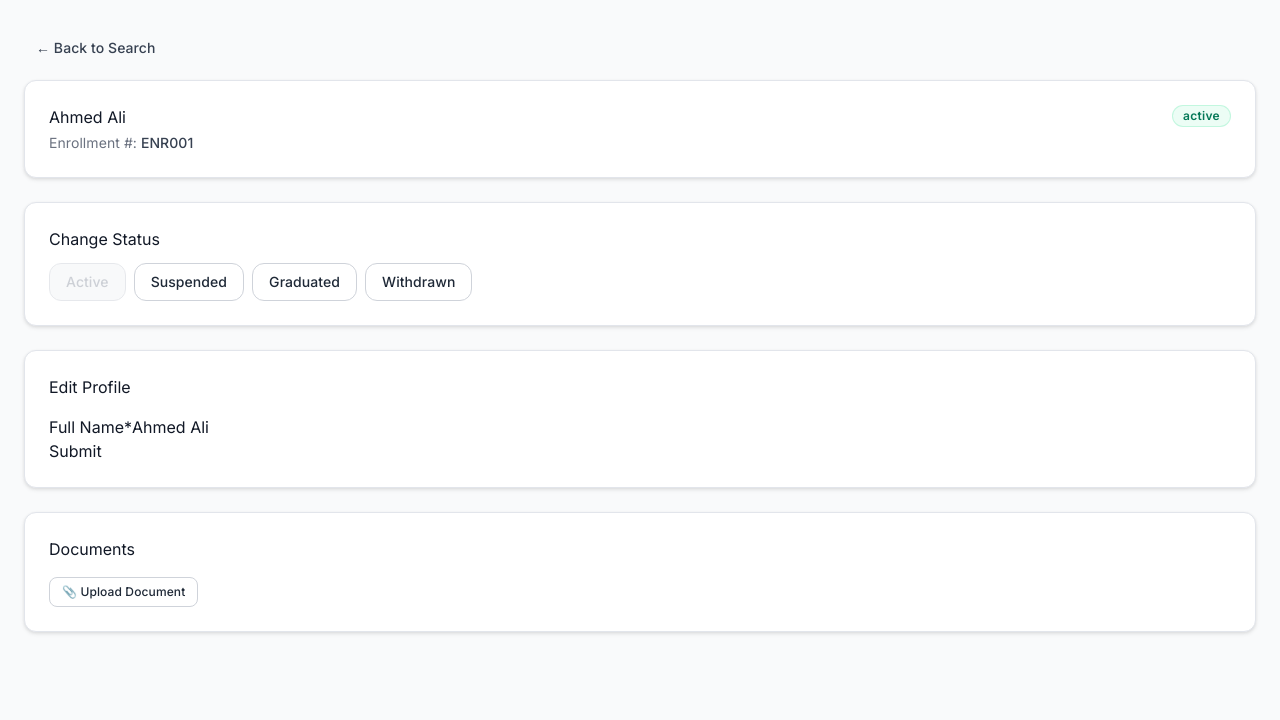
Test: StudentProfile › records status change with correct old and new status
Expected: the heading "Change Status" is shown, [49,229,160,249]
Click the button "graduated" at (305, 282), box [252,263,357,301]
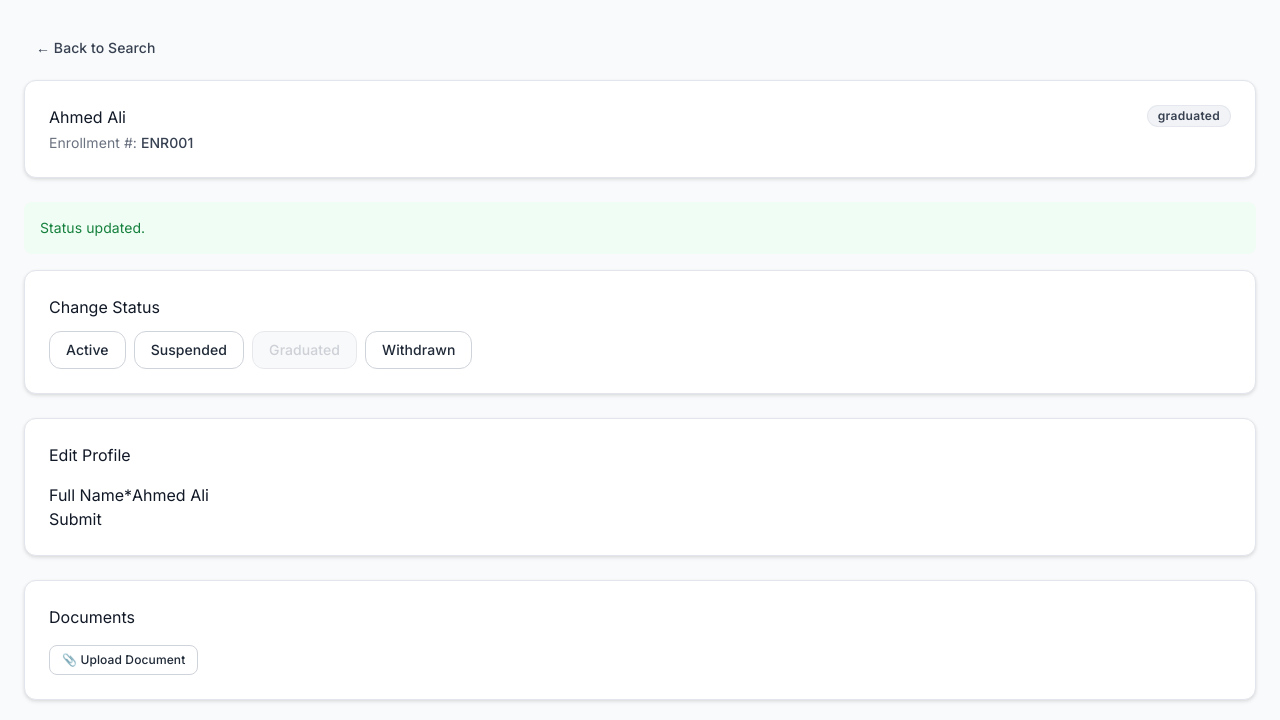
Now the text "graduated" is shown, box [1147,105,1231,127]
